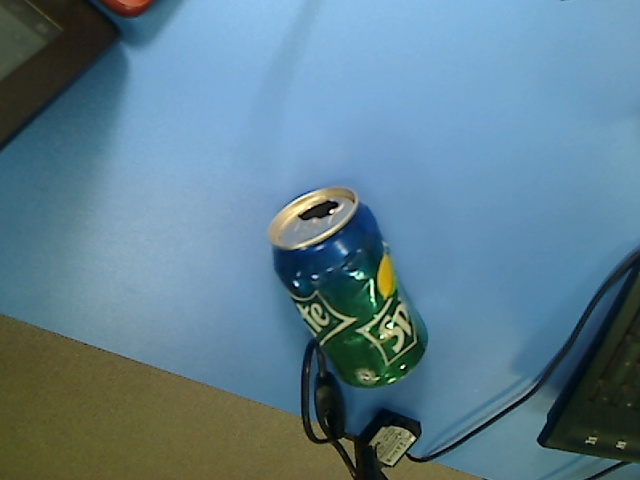can: (265, 183, 430, 393)
